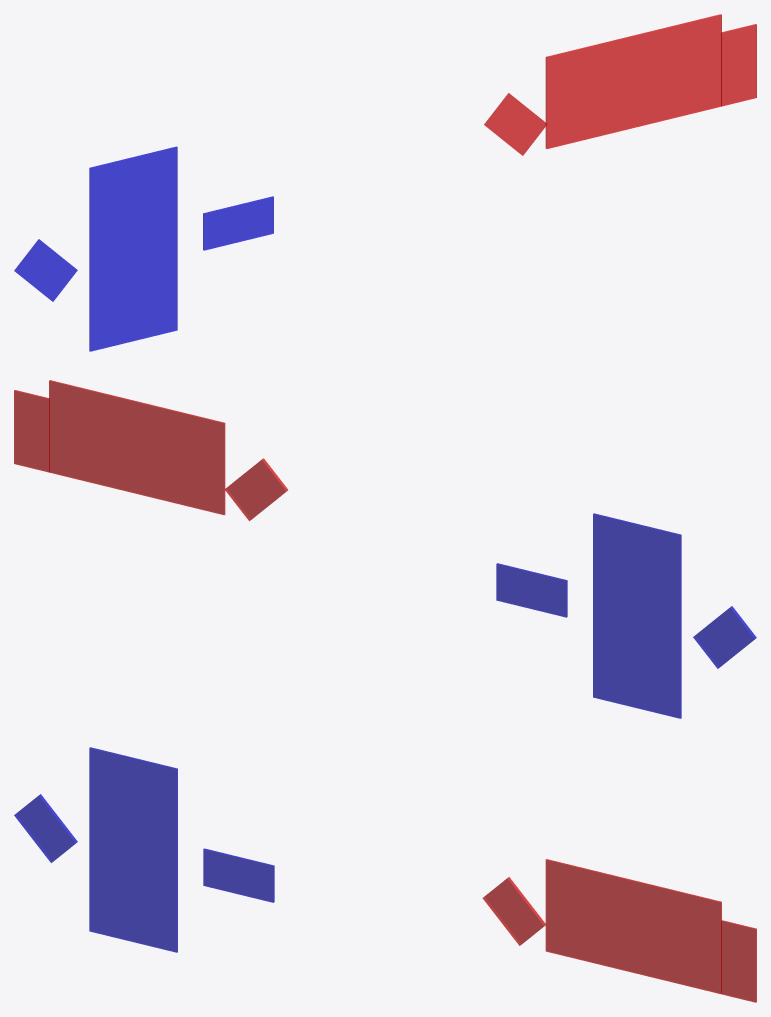
The model's file is pack.glb.
3 renders of one model, top to bottom at view 1: azimuth 30°, elevation 25°; view 2: azimuth 150°, elevation 25°; view 3: azimuth 330°, elevation 25°, orthographic.
Parts seen in each view (by area): view 1: shape_5, shape_0, shape_1, shape_6, shape_2, shape_4; view 2: shape_5, shape_0, shape_1, shape_6, shape_4, shape_2; view 3: shape_5, shape_0, shape_1, shape_6, shape_4, shape_2.
Boxes of the visible parts, <box> form: shape_5: <box>545,14,721,148</box>; shape_0: <box>89,146,177,351</box>; shape_1: <box>203,196,273,250</box>; shape_6: <box>721,24,756,106</box>; shape_2: <box>14,239,77,301</box>; shape_4: <box>484,93,547,155</box>; shape_5: <box>49,380,225,515</box>; shape_0: <box>593,513,681,718</box>; shape_1: <box>496,563,567,617</box>; shape_6: <box>14,390,49,472</box>; shape_4: <box>225,458,287,521</box>; shape_2: <box>693,606,756,668</box>; shape_5: <box>545,859,721,994</box>; shape_0: <box>89,747,177,952</box>; shape_1: <box>203,848,274,902</box>; shape_6: <box>721,920,756,1002</box>; shape_4: <box>482,877,545,945</box>; shape_2: <box>14,794,77,862</box>.
Bounding box in the file's own units: 4231 × 1000 × 30.
